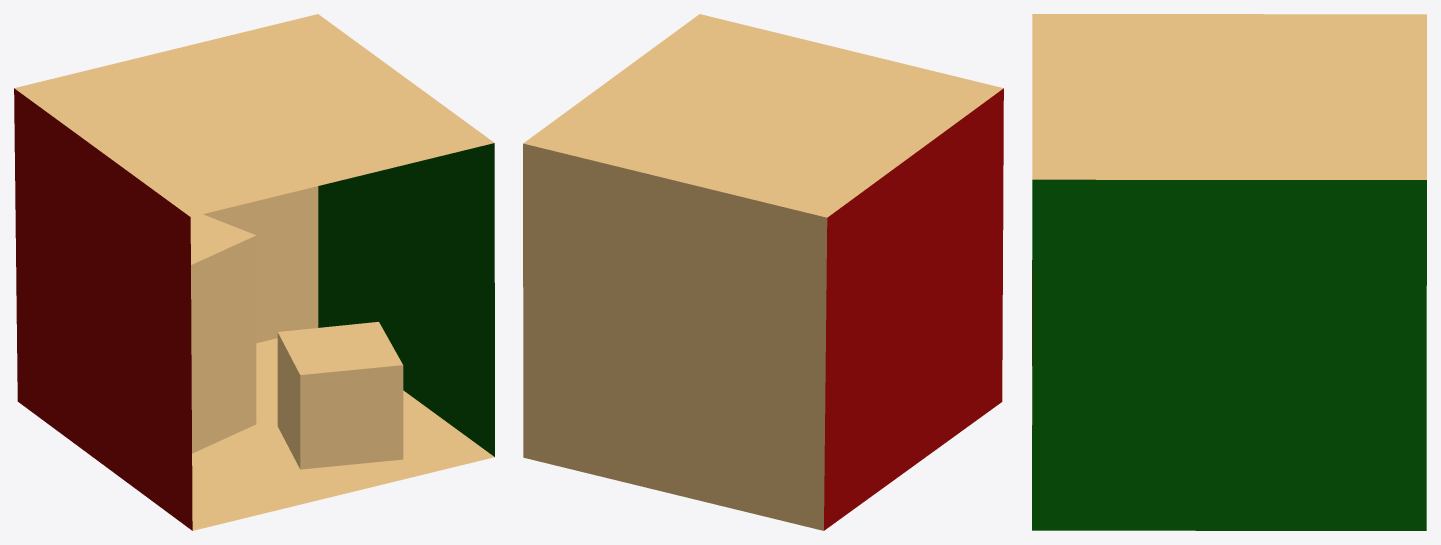
Rendered from cornell-box.obj.
The picture shows the model from 3 angles, left to right: view 1: azimuth 30°, elevation 25°; view 2: azimuth 150°, elevation 25°; view 3: azimuth 270°, elevation 25°; orthographic projection. The views are drawn at different scales.
Parts seen in each view (by area): view 1: left_wall, ceiling, right_wall, floor, short_box, tall_box, back_wall; view 2: back_wall, left_wall, ceiling; view 3: right_wall, ceiling.
Boxes of the visible parts, bbox=[...] form: left_wall: bbox=[14, 88, 192, 530]; ceiling: bbox=[14, 14, 494, 216]; right_wall: bbox=[318, 143, 494, 456]; floor: bbox=[192, 338, 494, 530]; short_box: bbox=[277, 322, 403, 469]; tall_box: bbox=[190, 214, 256, 453]; back_wall: bbox=[203, 186, 318, 343]; back_wall: bbox=[523, 143, 827, 530]; left_wall: bbox=[824, 88, 1003, 530]; ceiling: bbox=[523, 14, 1003, 217]; right_wall: bbox=[1032, 179, 1426, 530]; ceiling: bbox=[1032, 14, 1426, 179].
Size of the model in its own units: 5.56 by 5.49 by 5.6.
